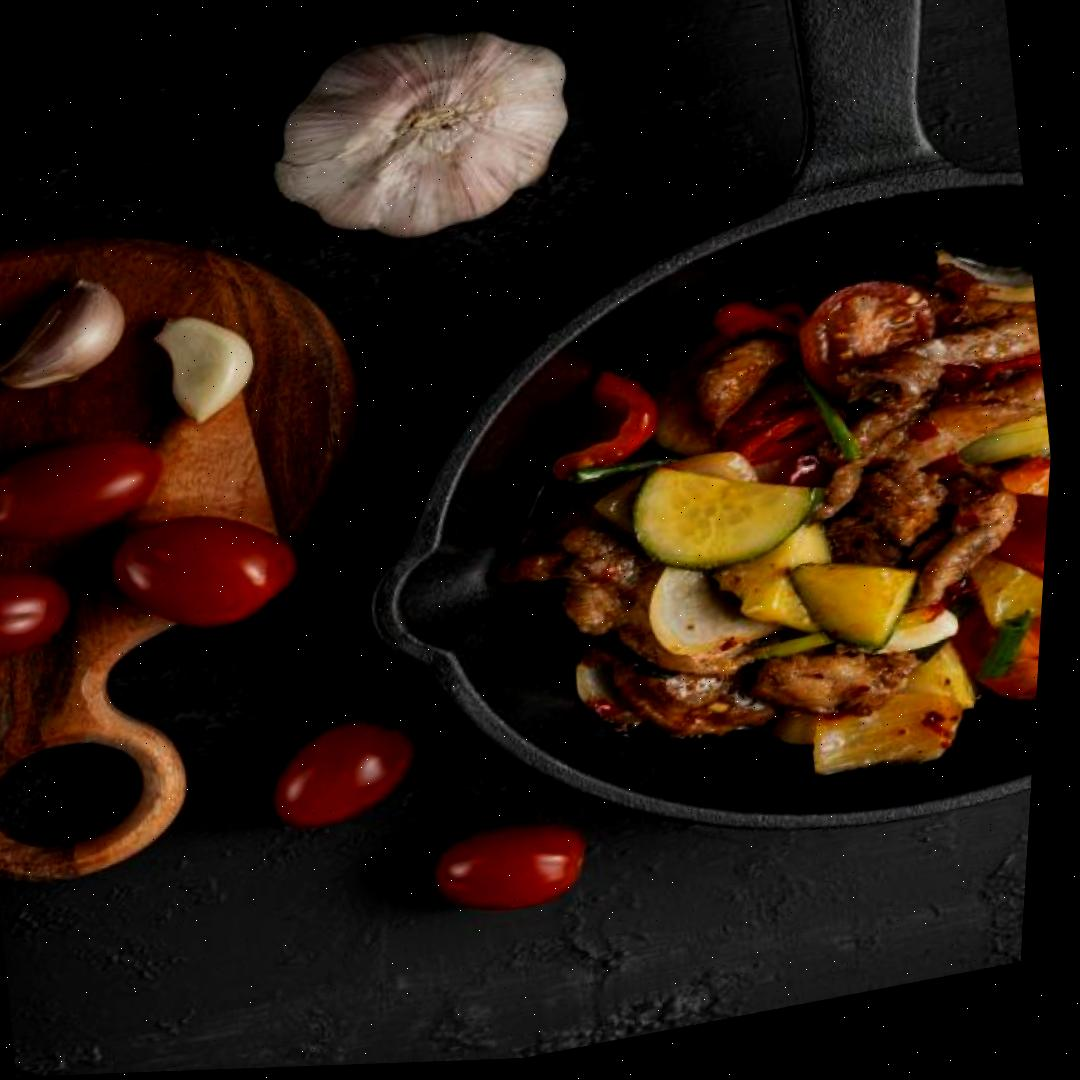matang: (104, 495, 306, 644), (0, 426, 176, 554), (262, 706, 434, 832), (420, 806, 598, 924), (0, 558, 72, 663)
